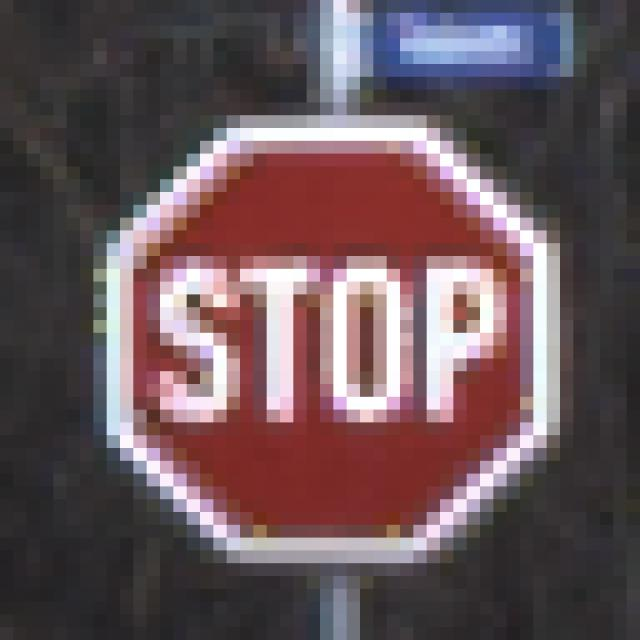STOP: (68, 78, 574, 577)
